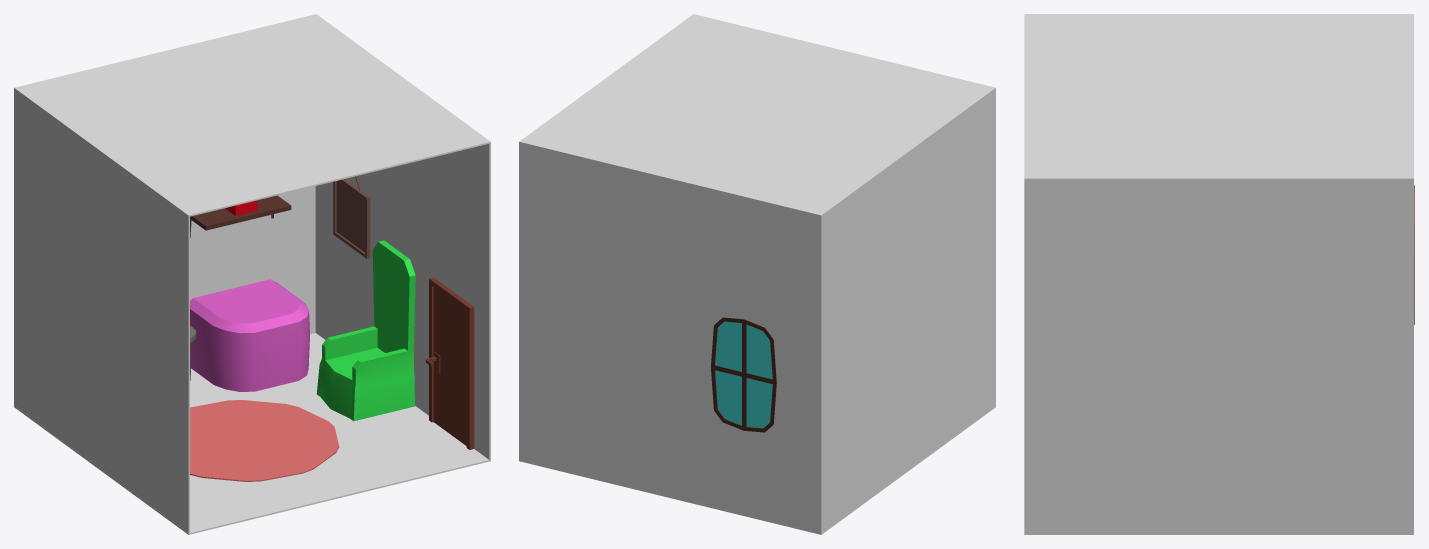
File: MainRoom.fbx
The picture shows the model from 3 angles, left to right: view 1: azimuth 30°, elevation 25°; view 2: azimuth 150°, elevation 25°; view 3: azimuth 270°, elevation 25°; orthographic projection. The views are drawn at different scales.
Visible parts, largest first — view 1: Parede.002, Teto, Parede.001, Piso, Mesa, Cadeira, Parede, Tapete, Porta, Quadro, Prateleira.001; view 2: Parede, Parede.002, Teto, Janela, JanelaPartes, Piso, Parede.001; view 3: Parede.001, Teto, Piso, Parede.
Boxes of the visible parts, <box> form: Parede.002: <box>15,90,189,533</box>; Teto: <box>14,14,490,216</box>; Parede.001: <box>315,143,490,459</box>; Piso: <box>14,333,490,534</box>; Mesa: <box>190,279,309,391</box>; Cadeira: <box>316,240,415,421</box>; Parede: <box>14,89,315,405</box>; Tapete: <box>190,400,339,481</box>; Porta: <box>425,277,474,449</box>; Quadro: <box>333,176,370,258</box>; Prateleira.001: <box>190,195,291,238</box>; Parede: <box>520,144,822,532</box>; Parede.002: <box>820,89,995,533</box>; Teto: <box>519,14,995,216</box>; Janela: <box>715,321,772,428</box>; JanelaPartes: <box>711,317,776,432</box>; Piso: <box>519,406,995,534</box>; Parede.001: <box>519,143,520,459</box>; Parede.001: <box>1024,180,1413,533</box>; Teto: <box>1024,14,1413,180</box>; Piso: <box>1024,533,1413,534</box>; Parede: <box>1412,180,1413,533</box>.
Bounding box in the file's own units: 1038 × 1049 × 1040.
